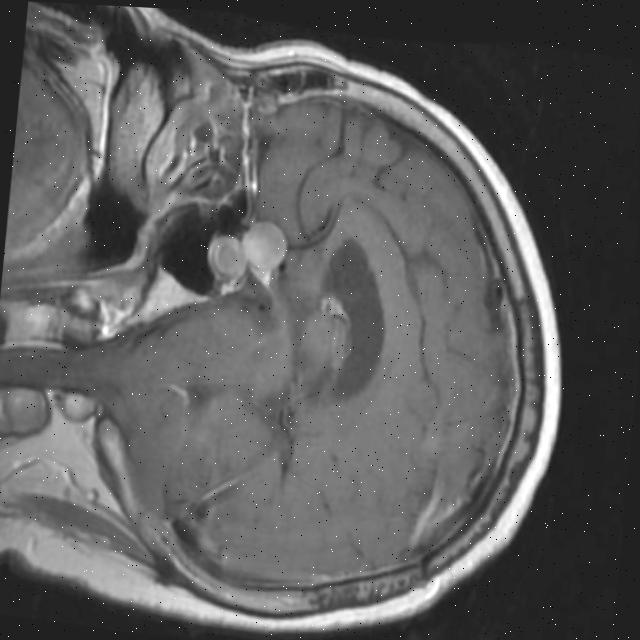Pituitary: (203, 212, 289, 288)
